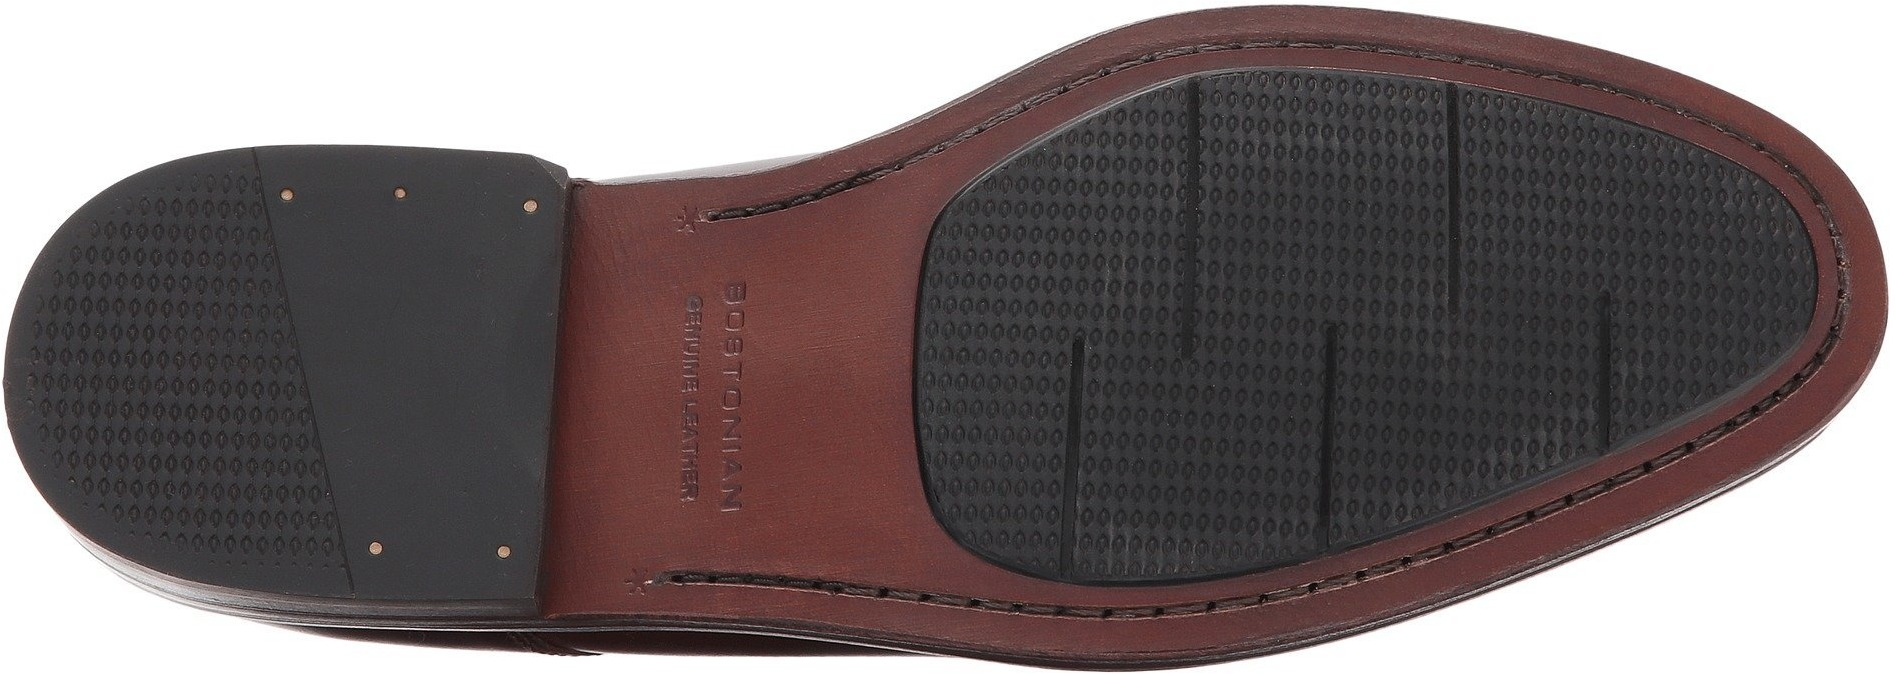line: (1283, 111, 1580, 397), (983, 162, 1271, 435)
other: (1283, 111, 1580, 397), (983, 162, 1271, 435), (62, 265, 288, 488), (314, 229, 550, 428), (1623, 191, 1784, 353)
